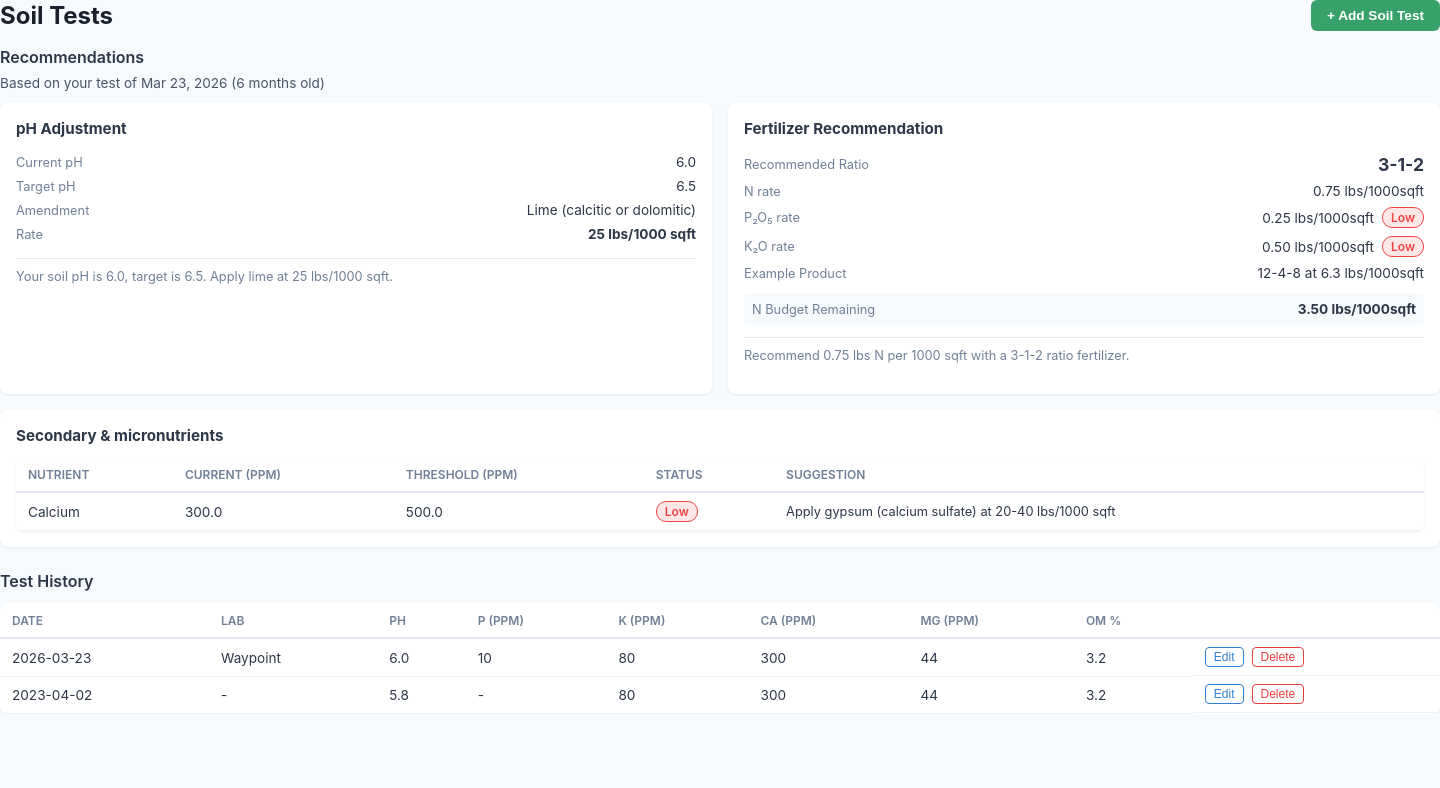
it: Soil Tests page › explains a failed save with the server's message
The width and height of the screenshot is (1440, 788).
expect the heading "Test History" is shown: met, box [0,571,93,591]
Click the button "+ Add Soil Test": click(1375, 16) [1311,0,1439,31]
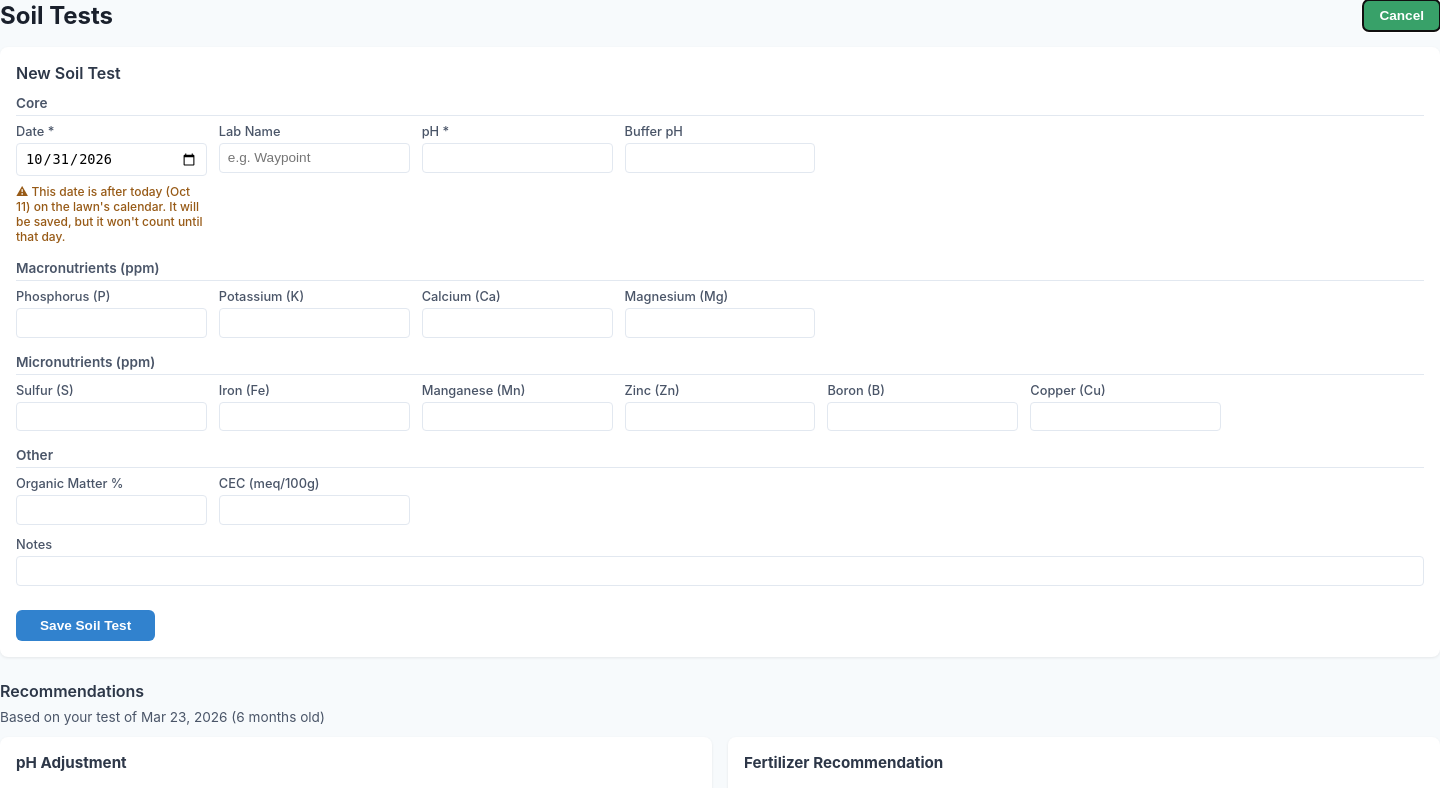
In the number field labelled "pH *": (517, 158) [422,143,613,173], type "6.2"
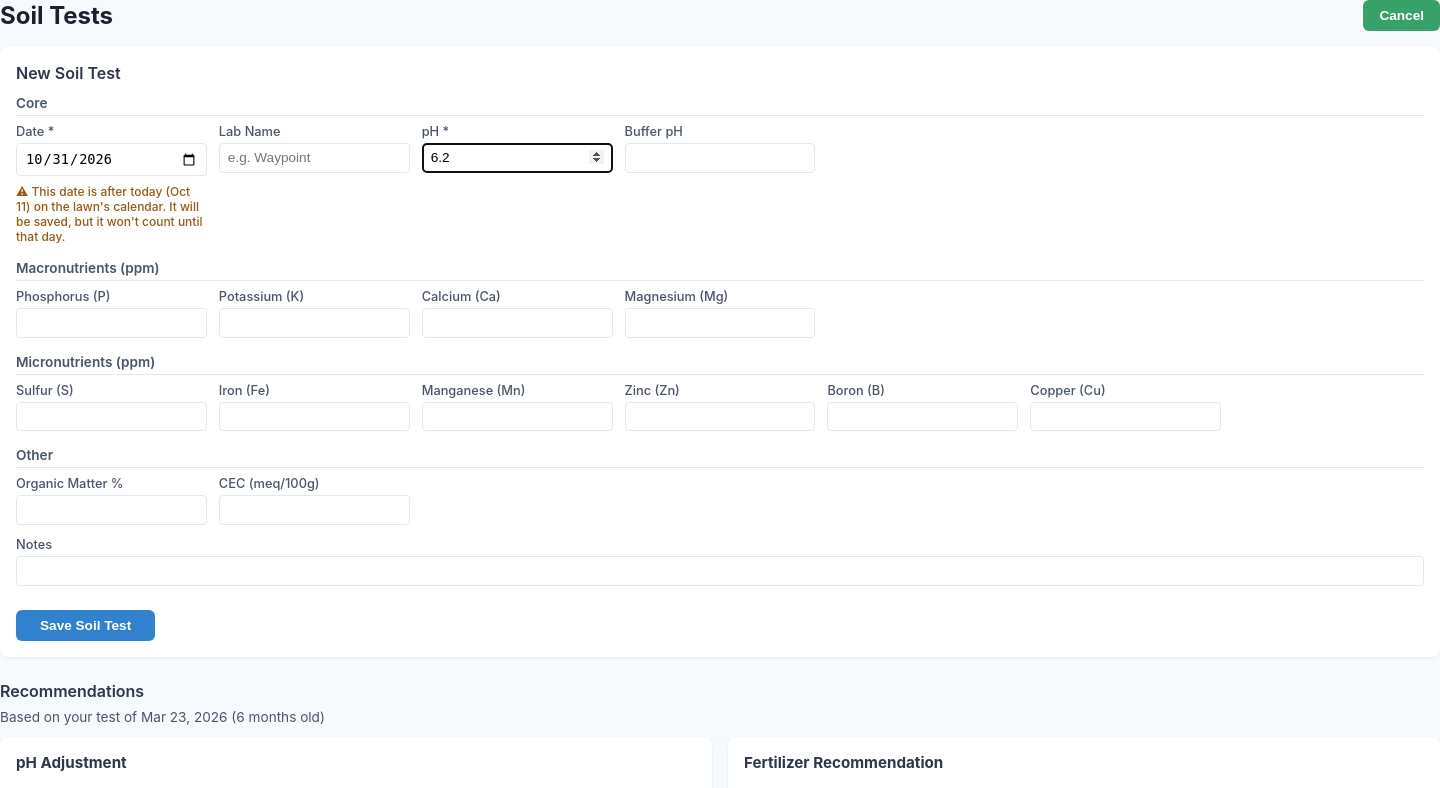
Click the button "Save Soil Test": click(86, 625) [16,610,155,641]
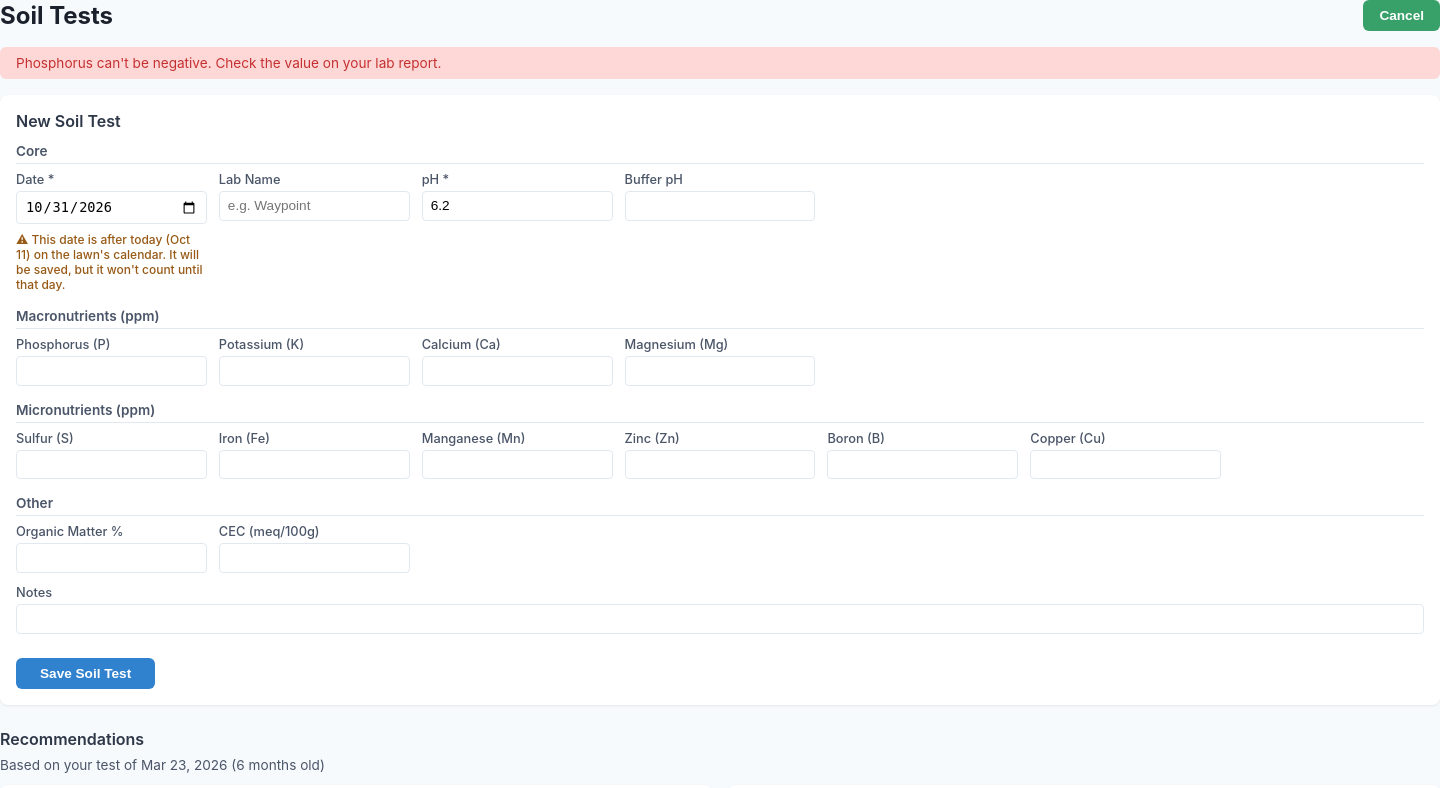
expect the text "Phosphorus can't be negative. Check the value on your lab report." is shown: met, box [0,47,1439,79]
